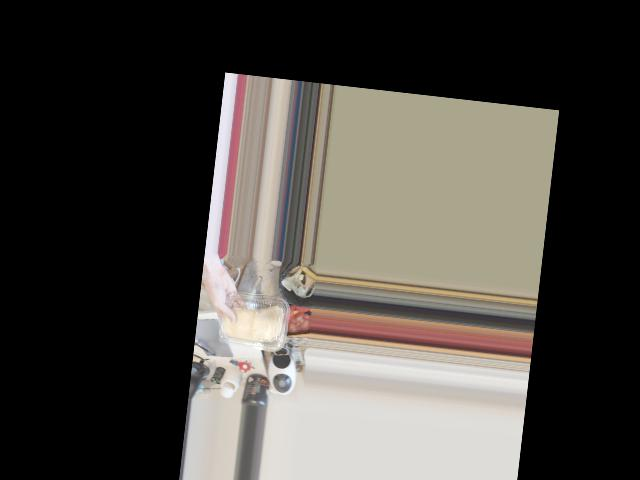cheese: (219, 287, 286, 357)
